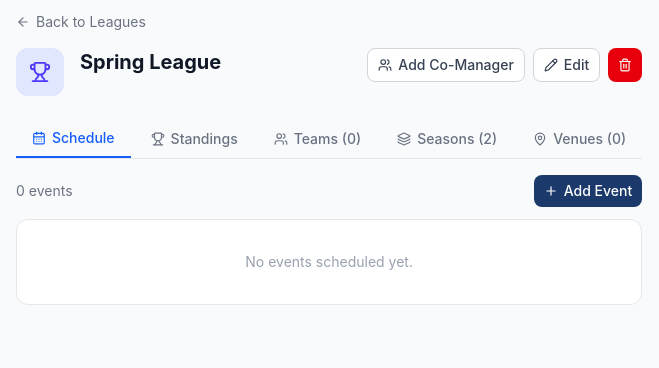
it: LeagueDetailPage — multi-season tab click switches tab, does not navigate › renders the season list after clicking the Seasons tab with two seasons
Click the tab "Seasons (2)" at (447,139), box [381, 120, 513, 158]
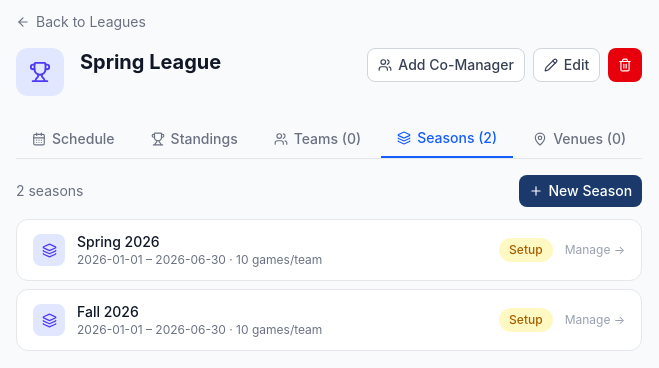
Expected: the text "Spring 2026" is shown, [77, 233, 160, 250]
Expected: the text "Fall 2026" is shown, [77, 303, 139, 320]
